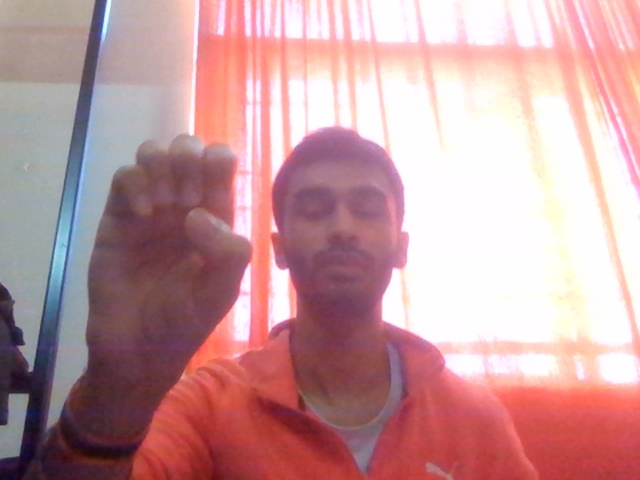E: (74, 104, 292, 418)
